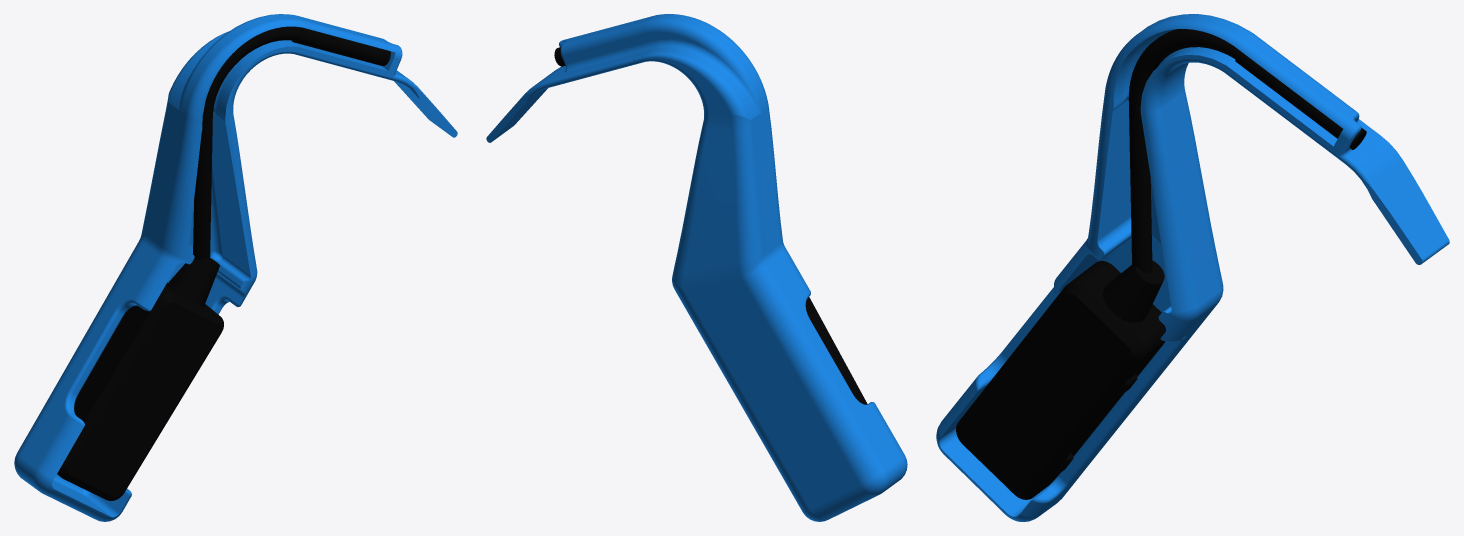
File: ensamble_laringocel_pediatrico.glb
3 renders of one model, left to right at view 1: azimuth 30°, elevation 25°; view 2: azimuth 150°, elevation 25°; view 3: azimuth 330°, elevation 25°, orthographic. The views are drawn at different scales.
Parts seen in each view (by area): view 1: Pediatrico 27 de Julio-1, Camara Pediatrica-1; view 2: Pediatrico 27 de Julio-1, Camara Pediatrica-1; view 3: Pediatrico 27 de Julio-1, Camara Pediatrica-1.
Boxes of the visible parts, <box> form: Pediatrico 27 de Julio-1: <box>14,14,457,521</box>; Camara Pediatrica-1: <box>57,26,390,500</box>; Pediatrico 27 de Julio-1: <box>486,14,907,521</box>; Camara Pediatrica-1: <box>554,47,867,404</box>; Pediatrico 27 de Julio-1: <box>936,14,1449,521</box>; Camara Pediatrica-1: <box>956,29,1366,499</box>.
Size of the model in its own units: 0.1325 by 0.141 by 0.0221.
